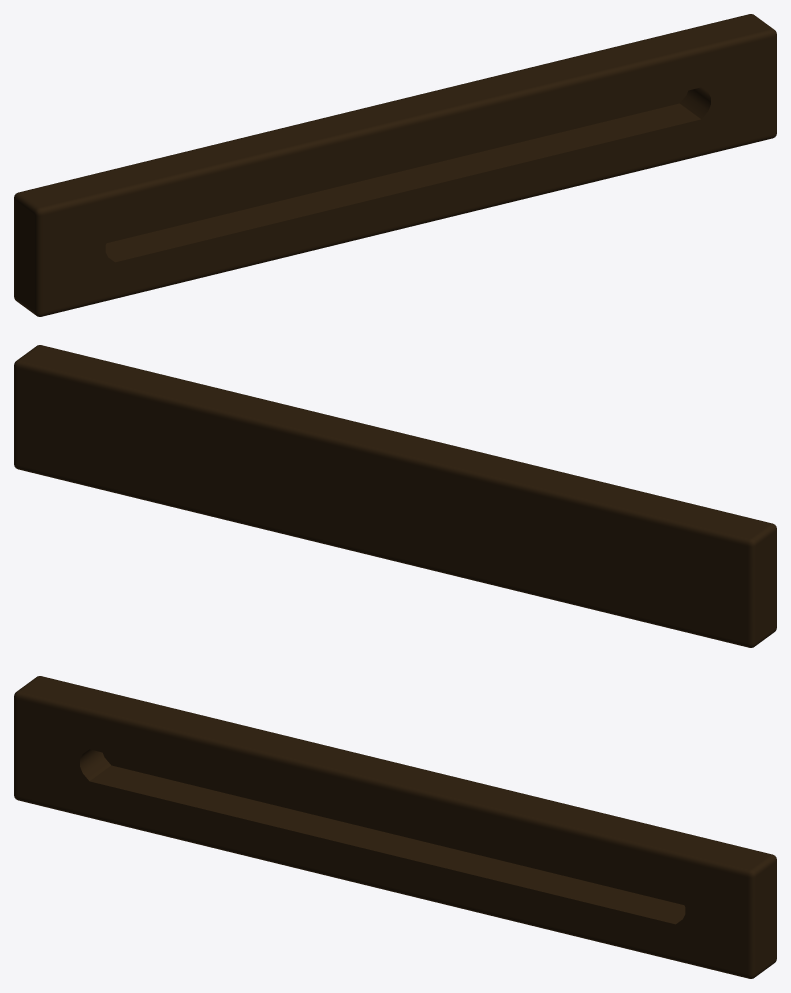
The model's file is Slider body.fbx.
3 views of the same model, one above another, from view 1: azimuth 30°, elevation 25°; view 2: azimuth 150°, elevation 25°; view 3: azimuth 330°, elevation 25° (orthographic).
Visible parts, largest first — view 1: Base; view 2: Base; view 3: Base.
Part boxes in pixels (bbox=[...]): Base: bbox=[14, 14, 776, 316]; Base: bbox=[14, 345, 776, 647]; Base: bbox=[14, 676, 776, 978].
Bounding box in the file's own units: 50 × 7 × 3.
